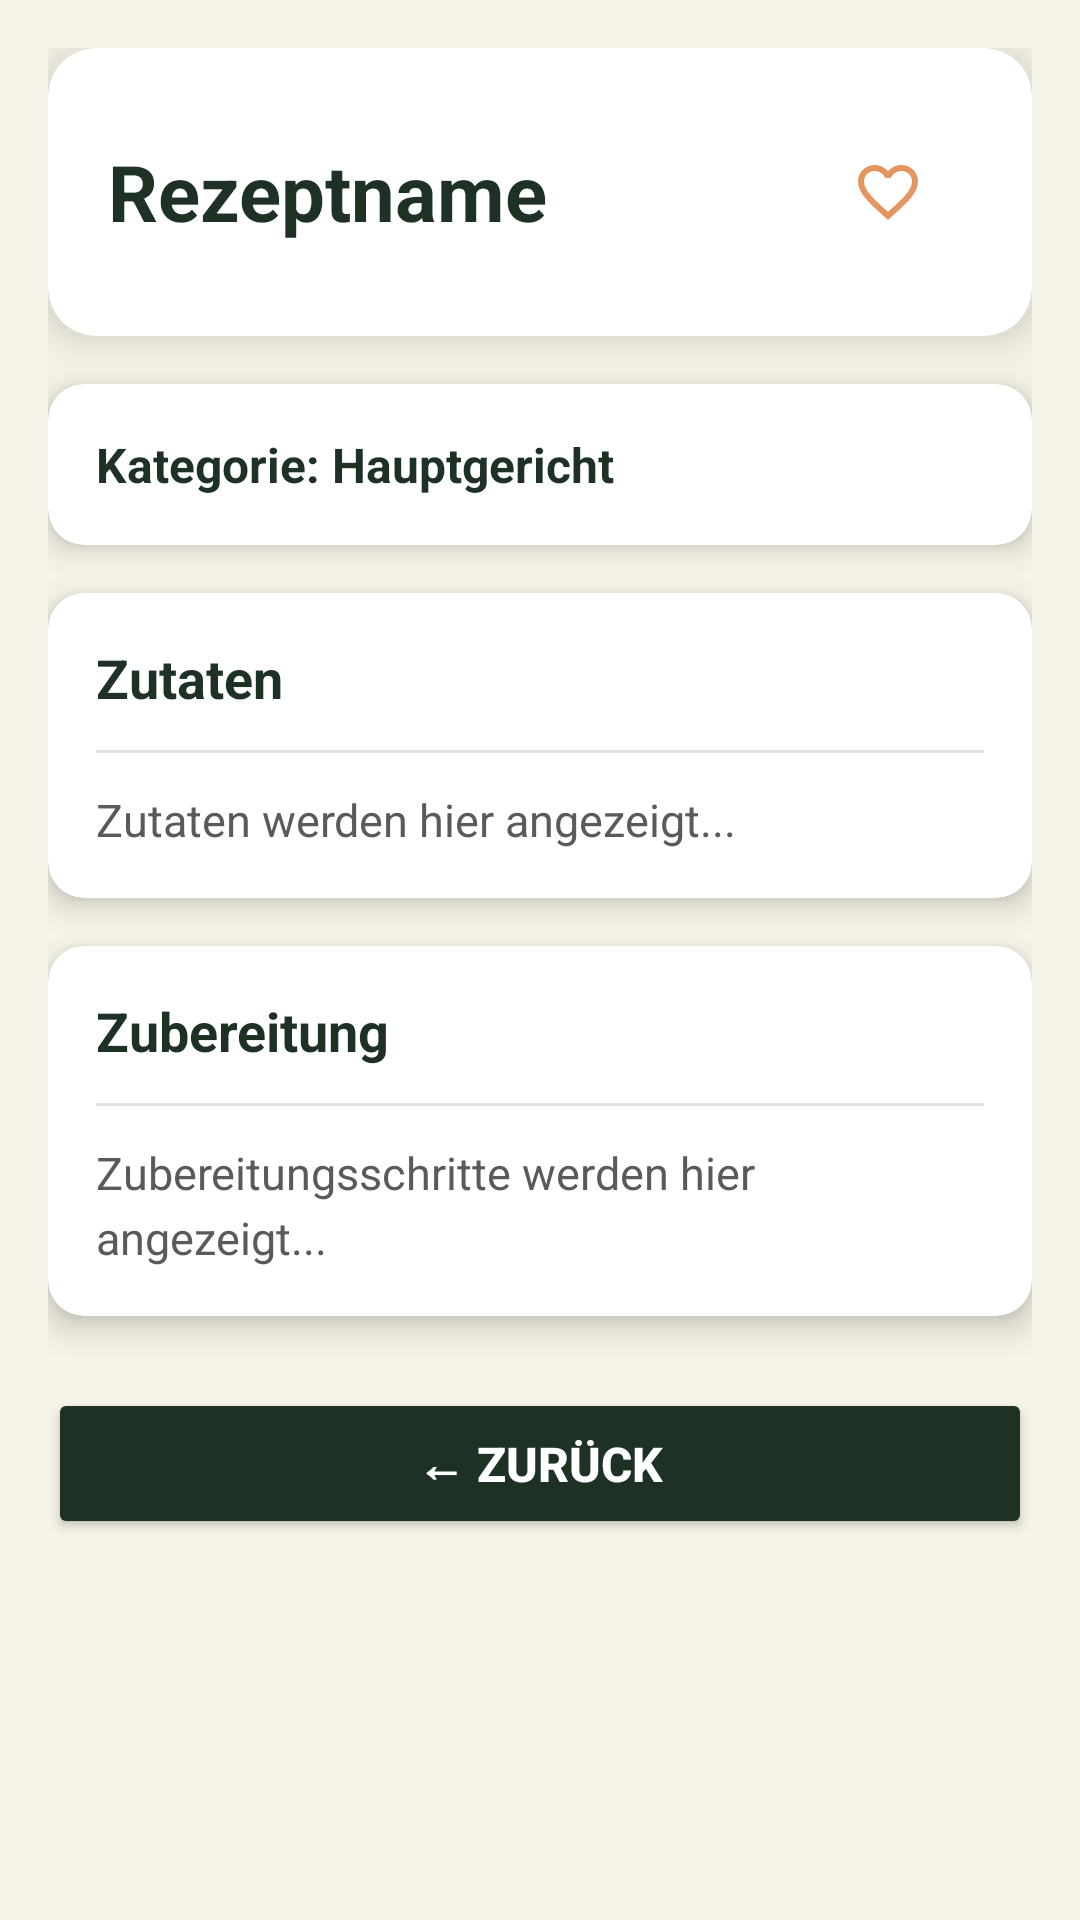

Screen size 1080px×1920px. Icon name, then its box in pixels as rect(x1, y1, x2, y2):
Favorit: rect(858, 165, 918, 220)
